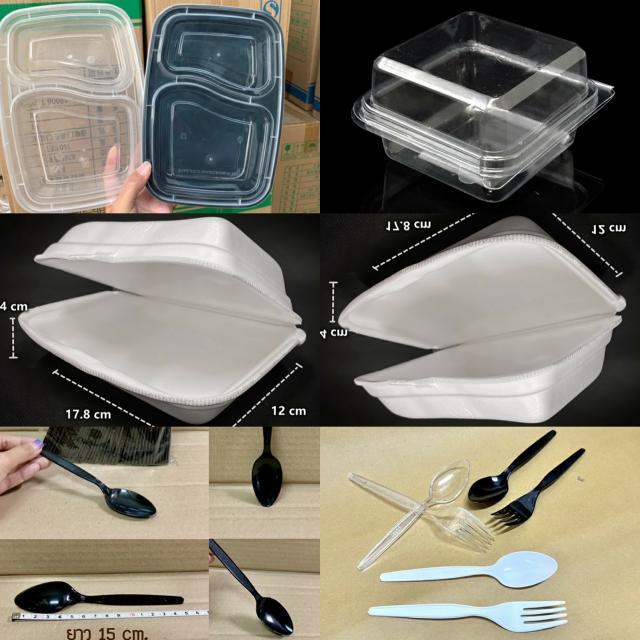Single-Use-Plastic: (19, 218, 305, 424), (339, 218, 625, 423), (352, 12, 613, 201), (0, 4, 143, 212), (143, 5, 284, 209), (341, 463, 499, 555), (357, 459, 470, 571), (40, 449, 156, 518), (209, 539, 293, 634), (492, 449, 585, 526), (380, 551, 558, 588), (468, 430, 555, 503), (368, 601, 568, 632), (15, 581, 184, 614), (251, 426, 283, 506)
